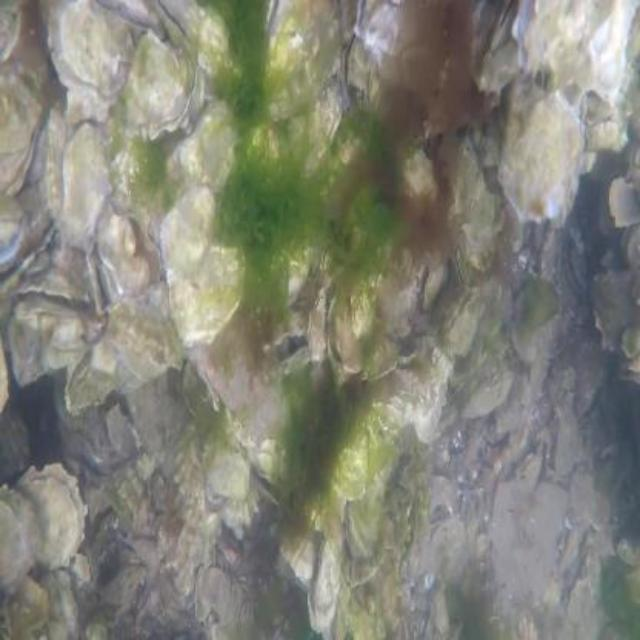Oyster-Closed: (500, 80, 591, 224), (258, 0, 351, 125), (51, 0, 134, 101), (169, 244, 247, 343), (125, 34, 199, 135), (15, 466, 84, 572), (108, 280, 183, 373), (63, 127, 110, 247), (0, 65, 42, 195), (101, 213, 160, 301), (182, 97, 237, 191), (158, 187, 215, 277), (307, 525, 344, 632), (67, 345, 124, 411), (0, 490, 40, 584), (271, 516, 318, 584), (331, 413, 368, 498), (341, 34, 381, 107), (464, 369, 513, 416), (0, 407, 31, 479)
Oyster-Open: (513, 0, 637, 100), (14, 270, 94, 317), (325, 281, 364, 376), (258, 308, 309, 380), (353, 0, 407, 55), (0, 198, 26, 273), (417, 251, 449, 306), (90, 256, 117, 317), (490, 0, 518, 51)
